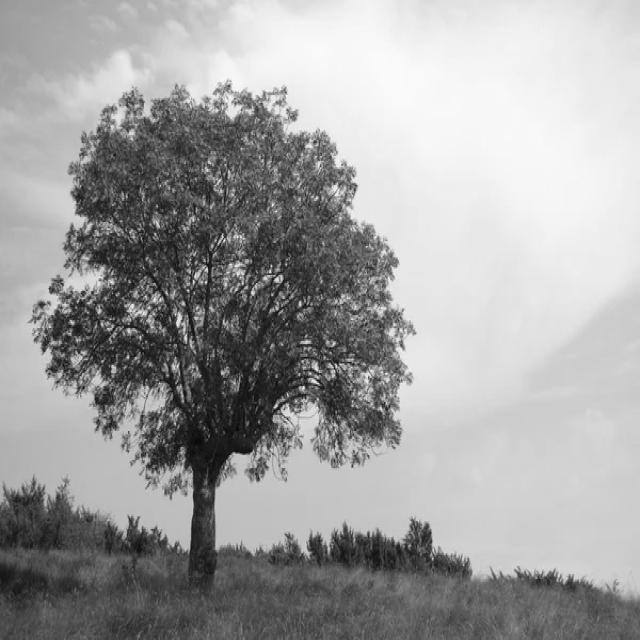Tree: (33, 84, 413, 588)
